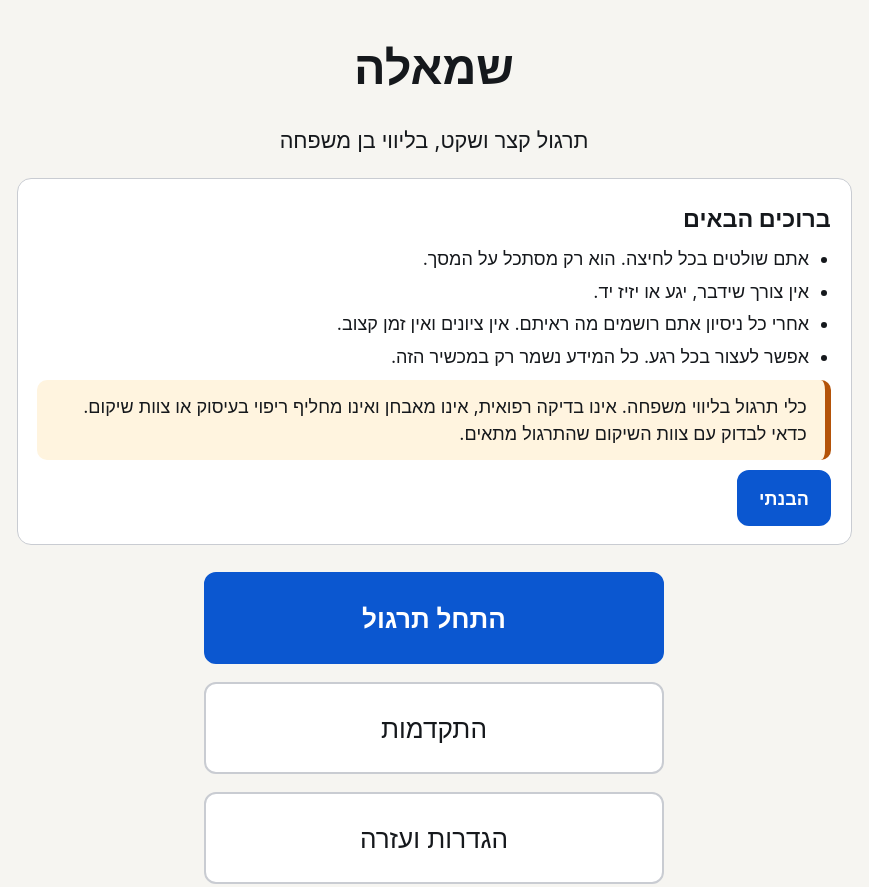
Scenario: literature-informed exercises in the UI › leftward pursuit is unavailable until clinician approval is confirmed
Step 1. Click the button with test id "home-start" → click(434, 618), box [204,572,664,664]
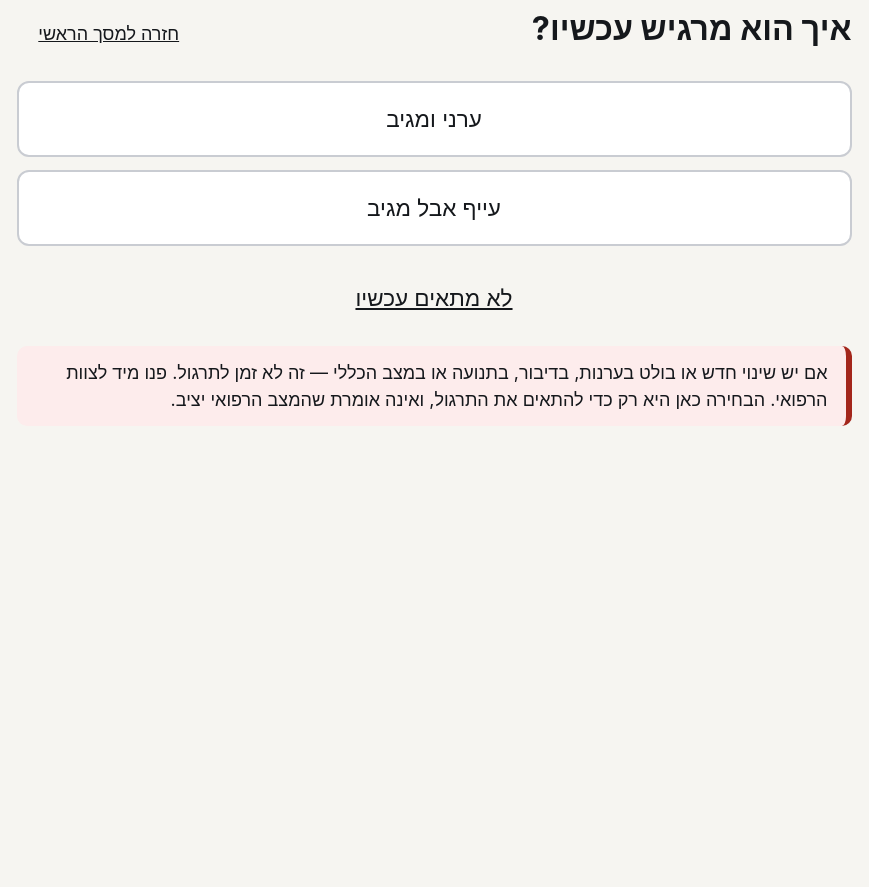
Step 2. Click the button with test id "readiness-alert" → click(434, 119), box [16,81,852,157]
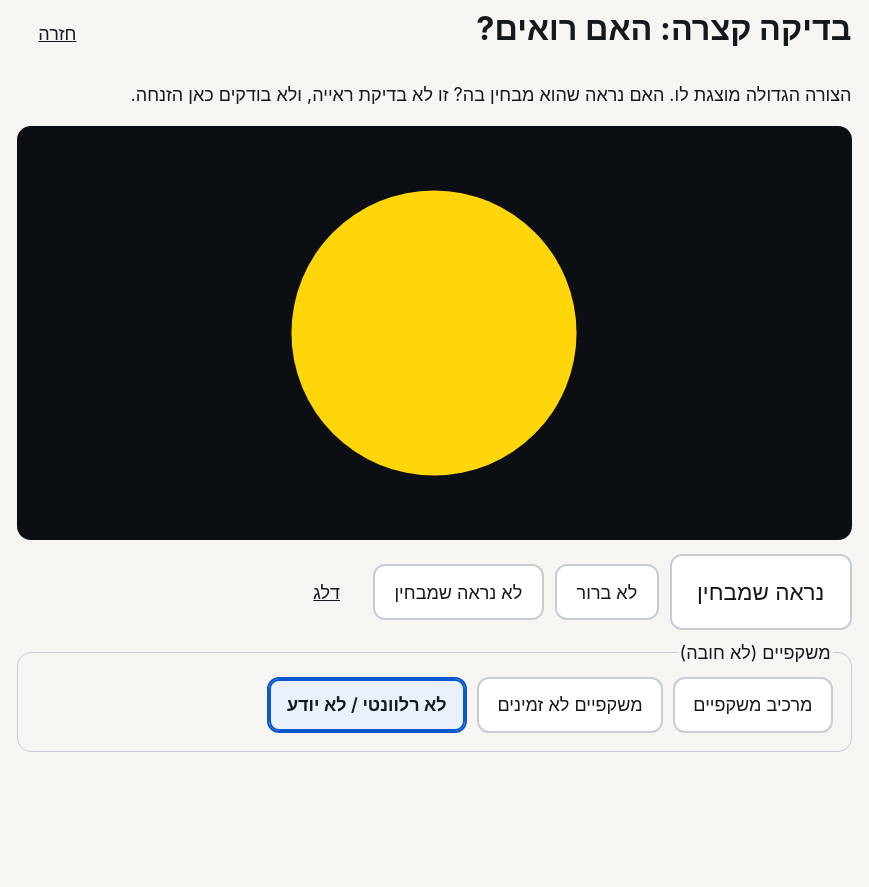
Step 3. Click the button with test id "vision-noticed" → click(761, 592), box [670,554,852,630]
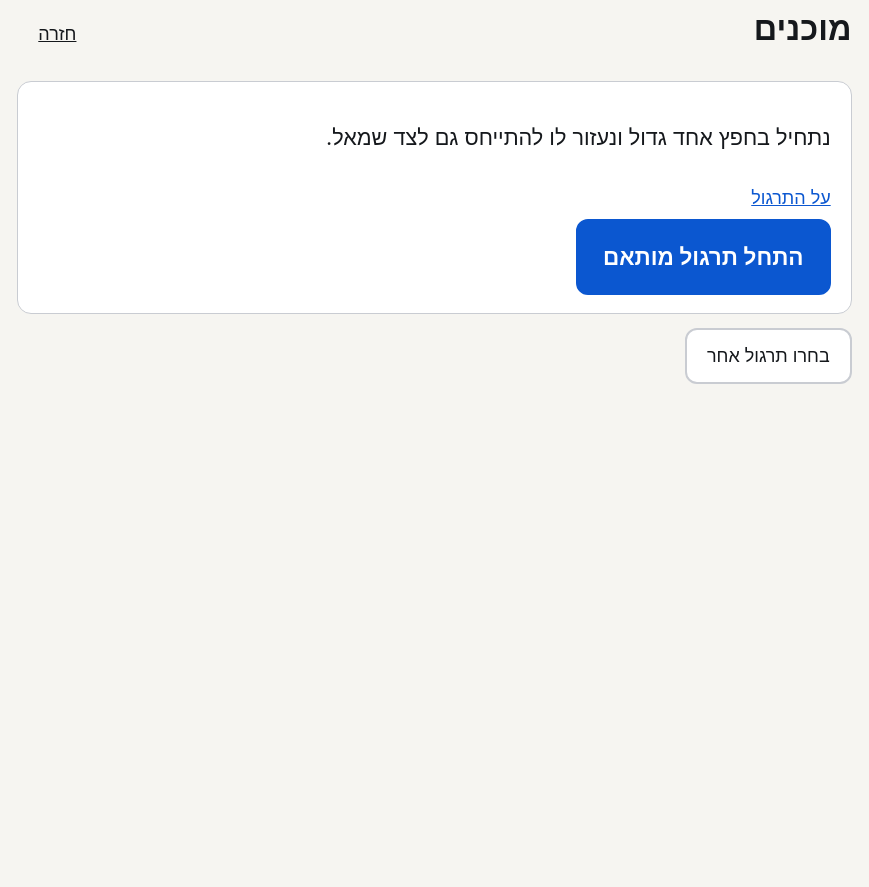
Step 4. Click the button with test id "start-choose-other" → click(768, 356), box [685,328,852,384]
(page scrolled)
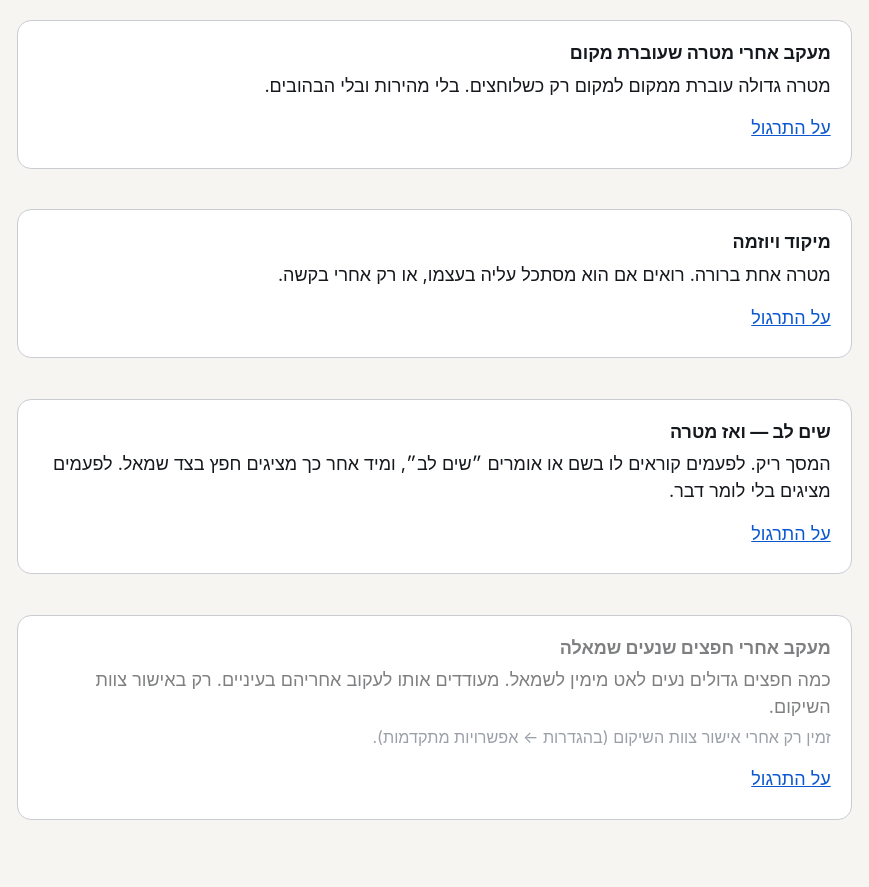
Now the button with test id "choose-leftward_pursuit" is disabled, box [37,634,831,750]
Now the button with test id "choose-leftward_pursuit" shows "אישור צוות השיקום", box [37,634,831,750]
